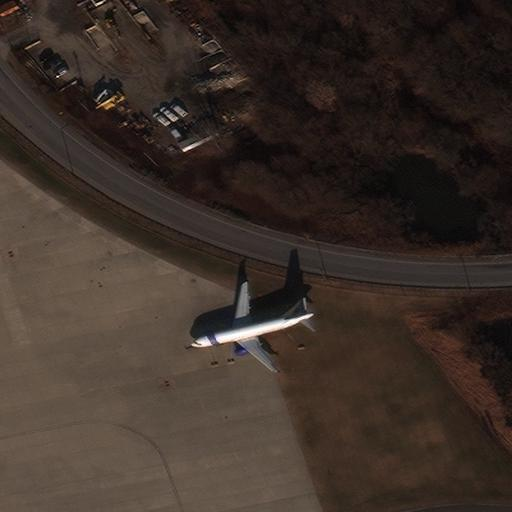Medium Civil Transport: (191, 283, 314, 372)
